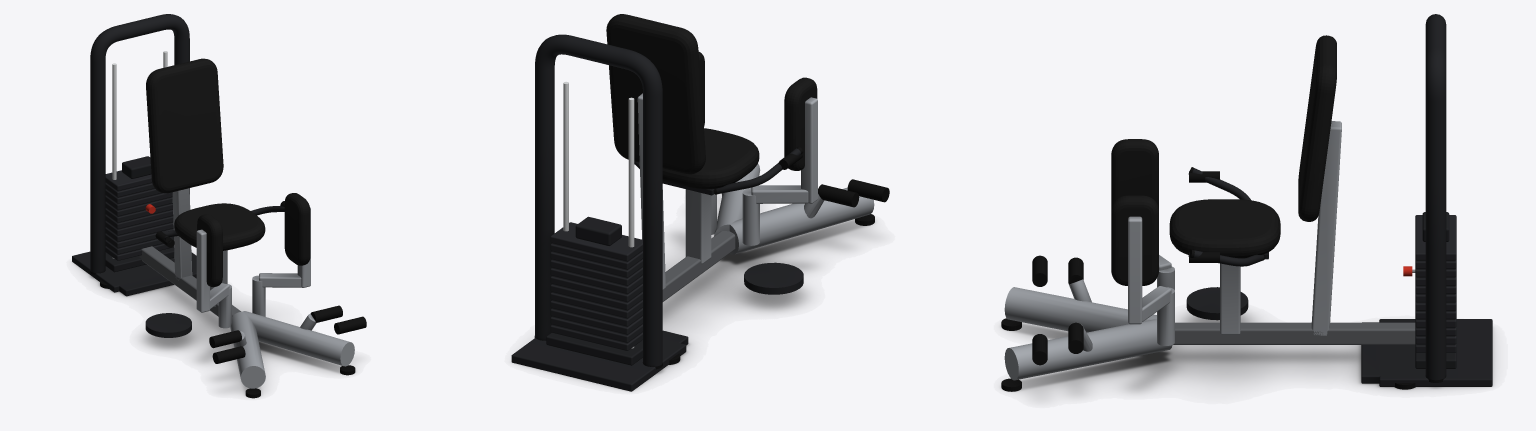
File: abdutor-adutor.glb
3 renders of one model, left to right at view 1: azimuth 30°, elevation 25°; view 2: azimuth 150°, elevation 25°; view 3: azimuth 270°, elevation 25°, orthographic. The views are drawn at different scales.
Visible parts, largest first — view 1: Encosto, Arco, Sombra_Contacto, Braco_Frontal_1, Assento, Almofada_Joelho_1, Braco_Frontal, Base, Almofada_Joelho, Espinha, Poste_Encosto, Disco_Ajuste (+22 smaller); view 2: Arco, Encosto, Sombra_Contacto, Base, Braco_Frontal, Assento, Almofada_Joelho, Poste_Assento, Espinha, Disco_Ajuste, Placa_5kg, Batente (+22 smaller); view 3: Sombra_Contacto, Arco, Assento, Espinha, Base, Encosto, Braco_Frontal_1, Poste_Encosto, Braco_Frontal, Almofada_Joelho_1, Almofada_Joelho, Montante_1 (+6 smaller).
Part boxes in pixels (bbox=[...]): Encosto: bbox=[146, 58, 223, 193]; Arco: bbox=[90, 14, 189, 273]; Sombra_Contacto: bbox=[73, 263, 341, 394]; Braco_Frontal_1: bbox=[242, 311, 354, 366]; Assento: bbox=[174, 203, 265, 250]; Almofada_Joelho_1: bbox=[284, 193, 310, 265]; Braco_Frontal: bbox=[230, 311, 265, 388]; Base: bbox=[72, 251, 196, 292]; Almofada_Joelho: bbox=[197, 214, 222, 286]; Espinha: bbox=[139, 246, 241, 316]; Poste_Encosto: bbox=[172, 188, 192, 280]; Disco_Ajuste: bbox=[145, 313, 191, 337]; Arco: bbox=[535, 34, 662, 366]; Encosto: bbox=[606, 14, 705, 174]; Sombra_Contacto: bbox=[521, 196, 874, 390]; Base: bbox=[511, 338, 686, 391]; Braco_Frontal: bbox=[729, 187, 874, 254]; Assento: bbox=[662, 128, 759, 189]; Almofada_Joelho: bbox=[784, 77, 817, 170]; Poste_Assento: bbox=[685, 189, 711, 263]; Espinha: bbox=[662, 231, 735, 301]; Disco_Ajuste: bbox=[744, 262, 803, 294]; Placa_5kg: bbox=[550, 222, 642, 261]; Batente: bbox=[546, 333, 642, 365]; Sombra_Contacto: bbox=[1006, 313, 1493, 395]; Arco: bbox=[1425, 14, 1446, 380]; Assento: bbox=[1169, 199, 1280, 258]; Espinha: bbox=[1173, 322, 1415, 344]; Base: bbox=[1379, 319, 1492, 386]; Encosto: bbox=[1298, 35, 1336, 221]; Braco_Frontal_1: bbox=[1004, 319, 1172, 380]; Poste_Encosto: bbox=[1311, 121, 1341, 335]; Braco_Frontal: bbox=[1004, 287, 1156, 332]; Almofada_Joelho_1: bbox=[1111, 195, 1158, 285]; Almofada_Joelho: bbox=[1111, 139, 1158, 208]; Montante_1: bbox=[1128, 216, 1142, 324].
Bounding box in the file's own units: 1.11 × 1.39 × 2.14.
8 materials, 1 textured.
